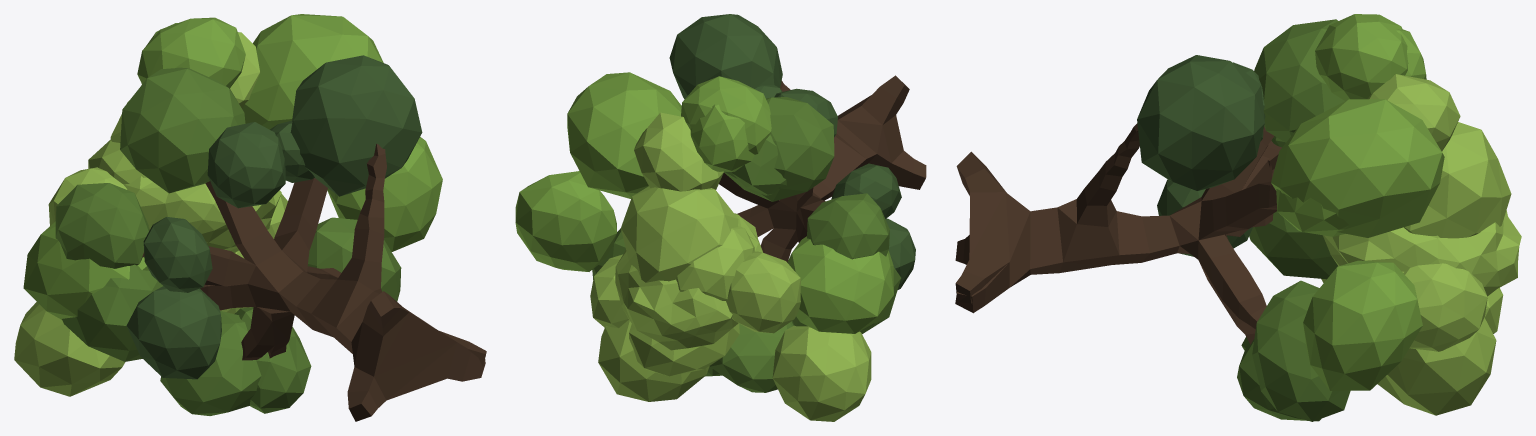
Rendered from TreeOakGreenB4.fbx.
3 renders of one model, left to right at view 1: azimuth 30°, elevation 25°; view 2: azimuth 150°, elevation 25°; view 3: azimuth 270°, elevation 25°, orthographic. The views are drawn at different scales.
Visible parts, largest first — view 1: M_Tree_Leaf_Mid.001, M_Tree_Leaf_Dark.001, M_Tree_Bark.001, M_Tree_Leaf_Light.001, M_Tree_Leaf_Pale.001; view 2: M_Tree_Leaf_Pale.001, M_Tree_Leaf_Light.001, M_Tree_Leaf_Mid.001, M_Tree_Leaf_Dark.001, M_Tree_Bark.001; view 3: M_Tree_Leaf_Light.001, M_Tree_Leaf_Pale.001, M_Tree_Bark.001, M_Tree_Leaf_Mid.001, M_Tree_Leaf_Dark.001.
Boxes of the visible parts, bbox=[...] form: M_Tree_Leaf_Mid.001: bbox=[55, 67, 401, 415]; M_Tree_Leaf_Dark.001: bbox=[126, 55, 422, 379]; M_Tree_Bark.001: bbox=[142, 143, 486, 421]; M_Tree_Leaf_Light.001: bbox=[23, 14, 442, 319]; M_Tree_Leaf_Pale.001: bbox=[14, 32, 287, 396]; M_Tree_Leaf_Pale.001: bbox=[590, 112, 871, 421]; M_Tree_Leaf_Light.001: bbox=[515, 72, 893, 333]; M_Tree_Leaf_Mid.001: bbox=[592, 97, 901, 392]; M_Tree_Leaf_Dark.001: bbox=[669, 14, 915, 289]; M_Tree_Bark.001: bbox=[719, 75, 926, 262]; M_Tree_Leaf_Light.001: bbox=[1271, 14, 1444, 390]; M_Tree_Leaf_Pale.001: bbox=[1321, 74, 1521, 415]; M_Tree_Bark.001: bbox=[955, 123, 1281, 344]; M_Tree_Leaf_Mid.001: bbox=[1237, 19, 1350, 421]; M_Tree_Leaf_Dark.001: bbox=[1137, 55, 1265, 256].
Size of the model in its own units: 2614 by 2235 by 3021.
